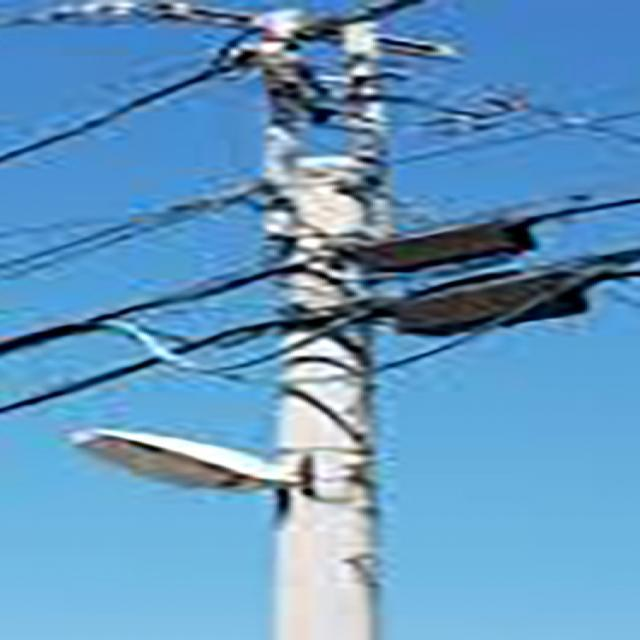pole: (46, 1, 501, 640)
